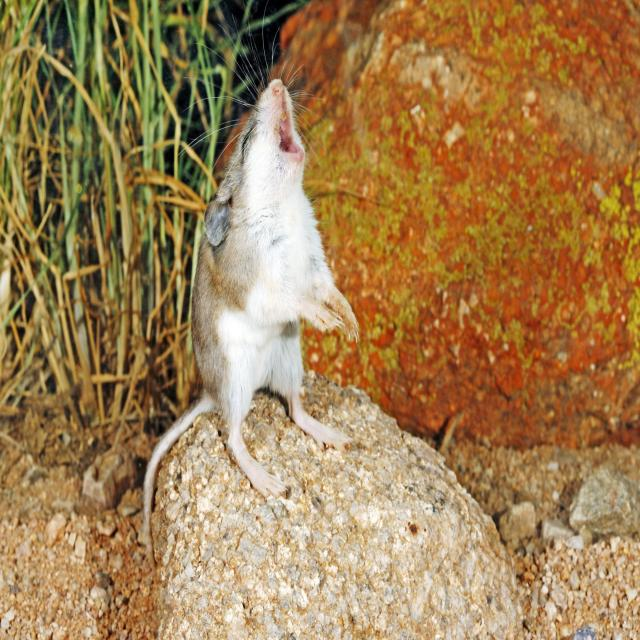Mouse: (135, 70, 371, 532)
